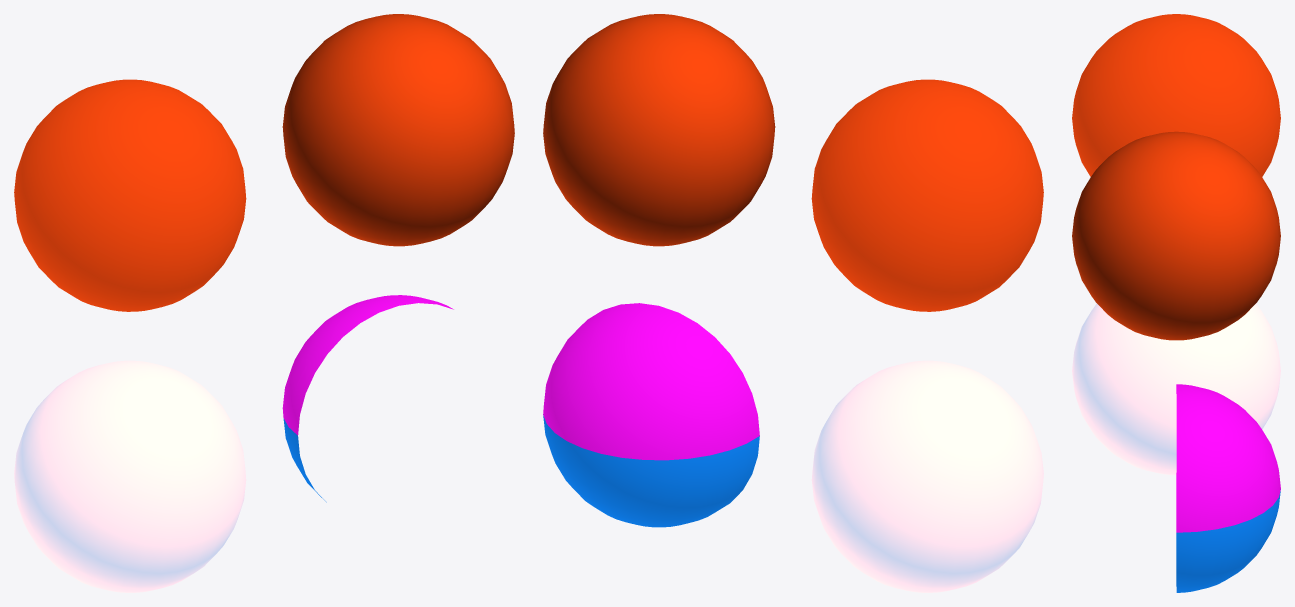
File: Emission_Checker.glb
3 views of the same model, side by side, from view 1: azimuth 30°, elevation 25°; view 2: azimuth 150°, elevation 25°; view 3: azimuth 270°, elevation 25° (orthographic). The views are drawn at different scales.
Visible parts, largest first — view 1: SRGB emission, Default dark factor0, Factor only, Base MASK controls coverage; view 2: SRGB emission, Default dark factor0, Factor only, Base MASK controls coverage; view 3: Default dark factor0, SRGB emission, Factor only, Base MASK controls coverage.
Boxes of the visible parts, x1,y1,x2,y2 form: SRGB emission: [14, 79, 246, 311]; Default dark factor0: [282, 14, 514, 246]; Factor only: [14, 360, 246, 592]; Base MASK controls coverage: [282, 295, 453, 502]; SRGB emission: [811, 79, 1043, 311]; Default dark factor0: [543, 14, 775, 246]; Factor only: [811, 360, 1043, 592]; Base MASK controls coverage: [543, 303, 759, 527]; Default dark factor0: [1072, 131, 1280, 340]; SRGB emission: [1072, 14, 1280, 176]; Factor only: [1072, 304, 1280, 475]; Base MASK controls coverage: [1176, 384, 1280, 592].
Bounding box in the file's own units: 2.8 × 2.8 × 1.2.
Materials: 4 (4 with a texture image).
